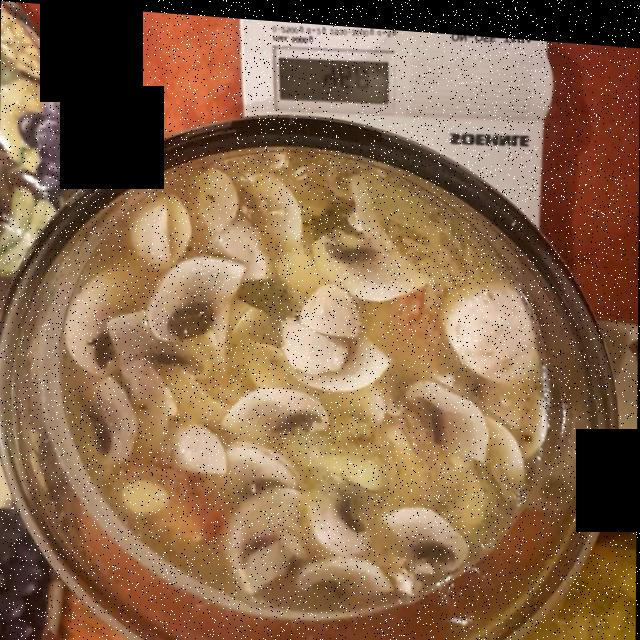bouillon: (70, 153, 538, 598)
mushroom: (60, 158, 562, 600)
